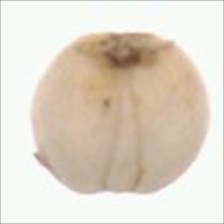L5: (104, 69, 145, 197), (71, 30, 178, 70)
L6: (28, 27, 212, 198)
